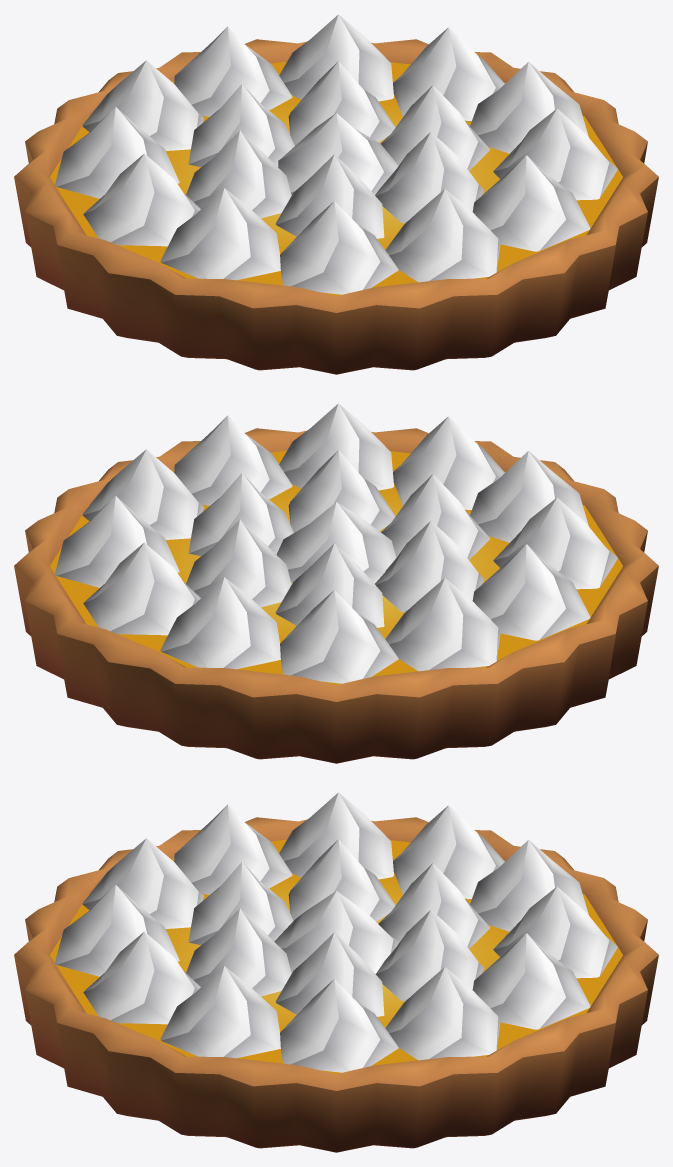
Rendered from m_LemonMeringueTart01.fbx.
The picture shows the model from 3 angles, top to bottom: view 1: azimuth 30°, elevation 25°; view 2: azimuth 150°, elevation 25°; view 3: azimuth 270°, elevation 25°; orthographic projection.
Parts seen in each view (by area): view 1: m_LemonMeringueTart01; view 2: m_LemonMeringueTart01; view 3: m_LemonMeringueTart01.
Boxes of the visible parts, left/top/right/bottom form: m_LemonMeringueTart01: left=14, top=14, right=658, bottom=374; m_LemonMeringueTart01: left=14, top=403, right=658, bottom=763; m_LemonMeringueTart01: left=14, top=792, right=658, bottom=1152.
Bounding box in the file's own units: 28.01 × 6.81 × 28.01.
